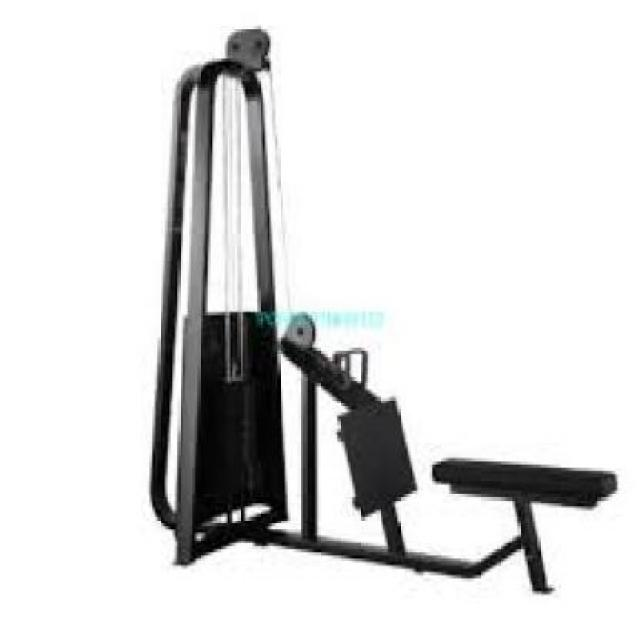Seated Cable Rows: (129, 31, 620, 600)
